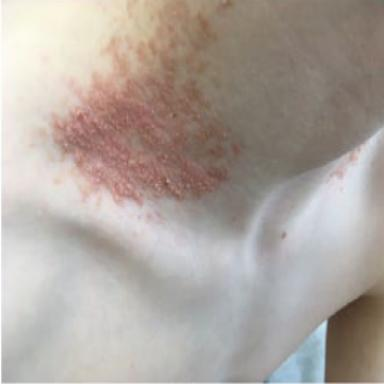Darier_s-Disease: (49, 0, 244, 207)
